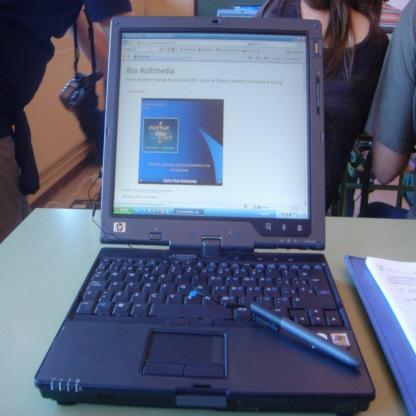board: (34, 12, 374, 414)
